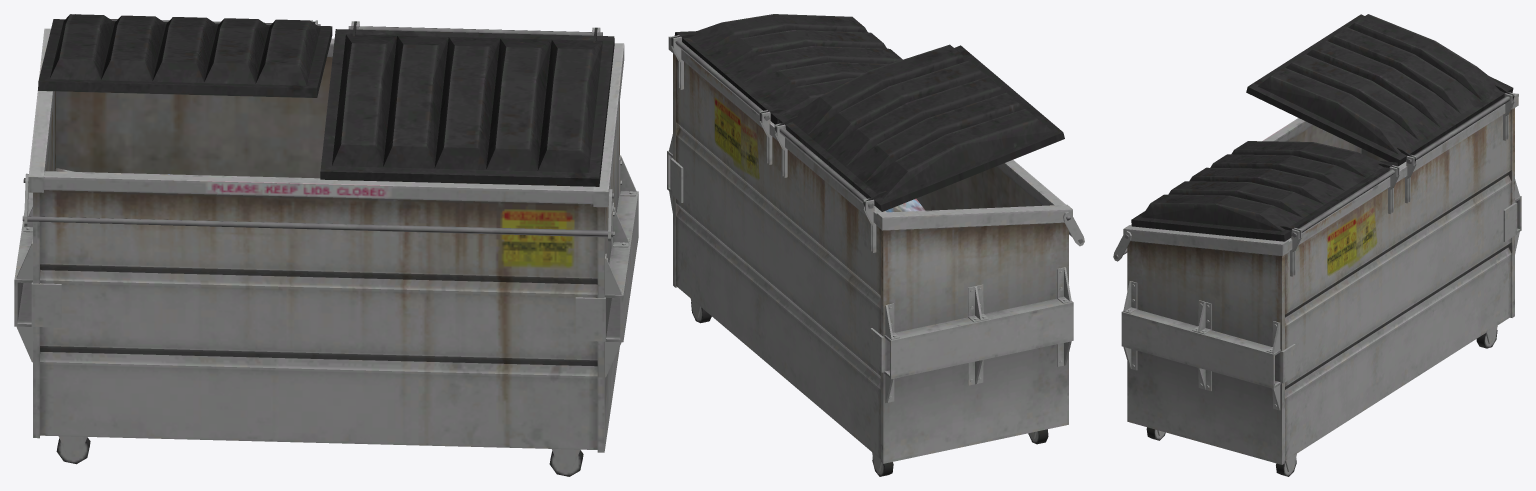
The model's file is SandyBeach_Dumpster01.fbx.
The picture shows the model from 3 angles, left to right: view 1: azimuth 30°, elevation 25°; view 2: azimuth 150°, elevation 25°; view 3: azimuth 270°, elevation 25°; orthographic projection. The views are drawn at different scales.
Visible parts, largest first — view 1: ItemBox_Dumpster_01_0_6; view 2: ItemBox_Dumpster_01_0_6; view 3: ItemBox_Dumpster_01_0_6.
Boxes of the visible parts, x1,y1,x2,y2 form: ItemBox_Dumpster_01_0_6: [14, 14, 638, 476]; ItemBox_Dumpster_01_0_6: [667, 14, 1084, 476]; ItemBox_Dumpster_01_0_6: [1113, 14, 1521, 476].
Size of the model in its own units: 256 by 174 by 219.
Materials: 1 (1 with a texture image).
